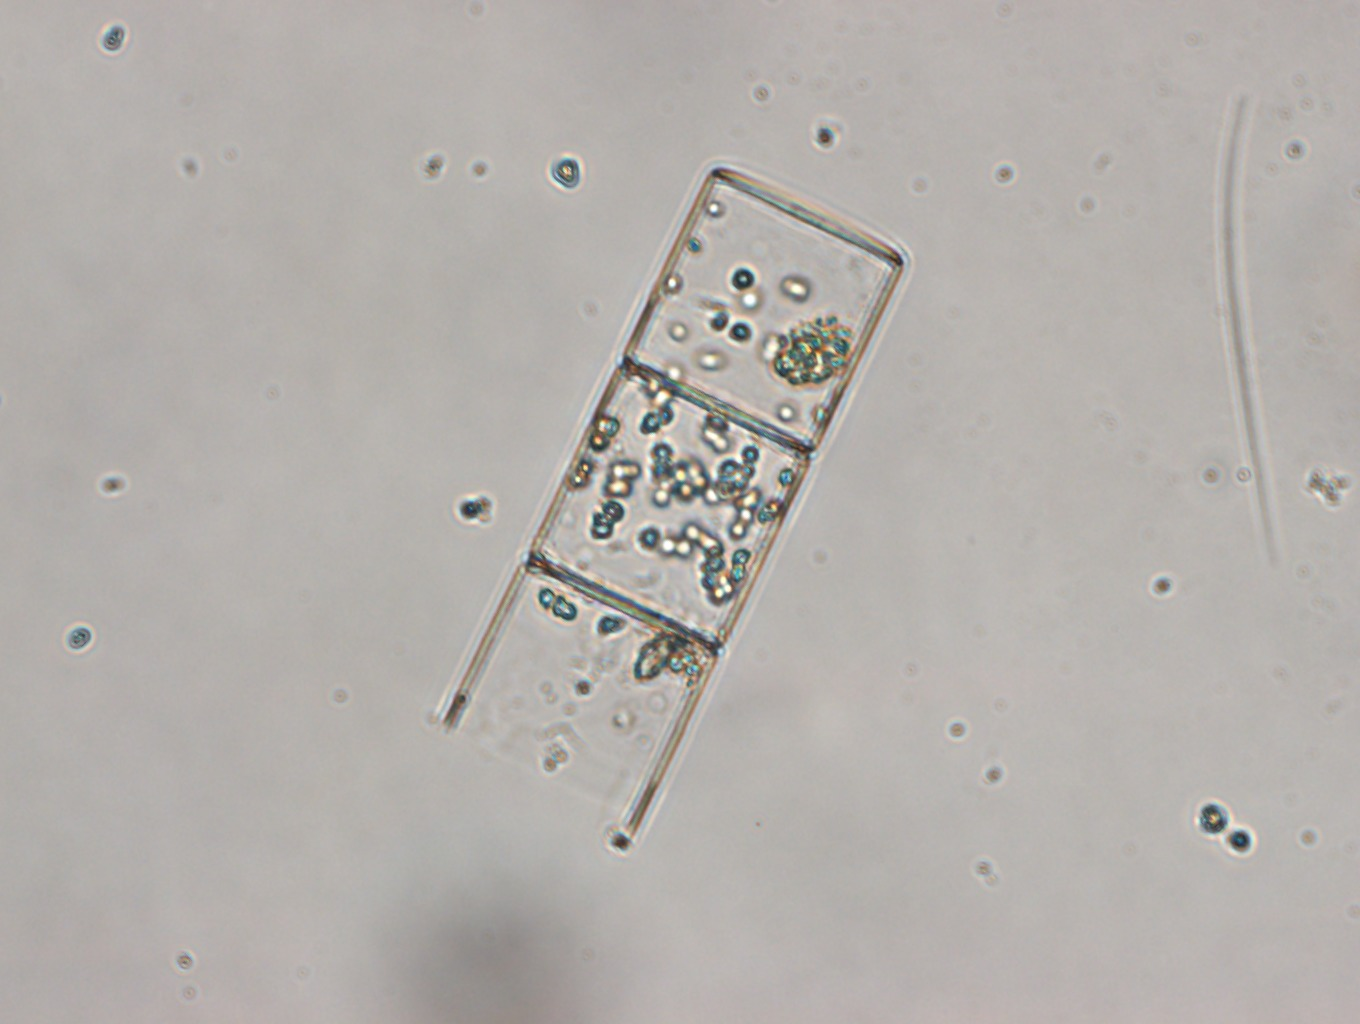guinardia flaccida: (434, 163, 912, 842)
